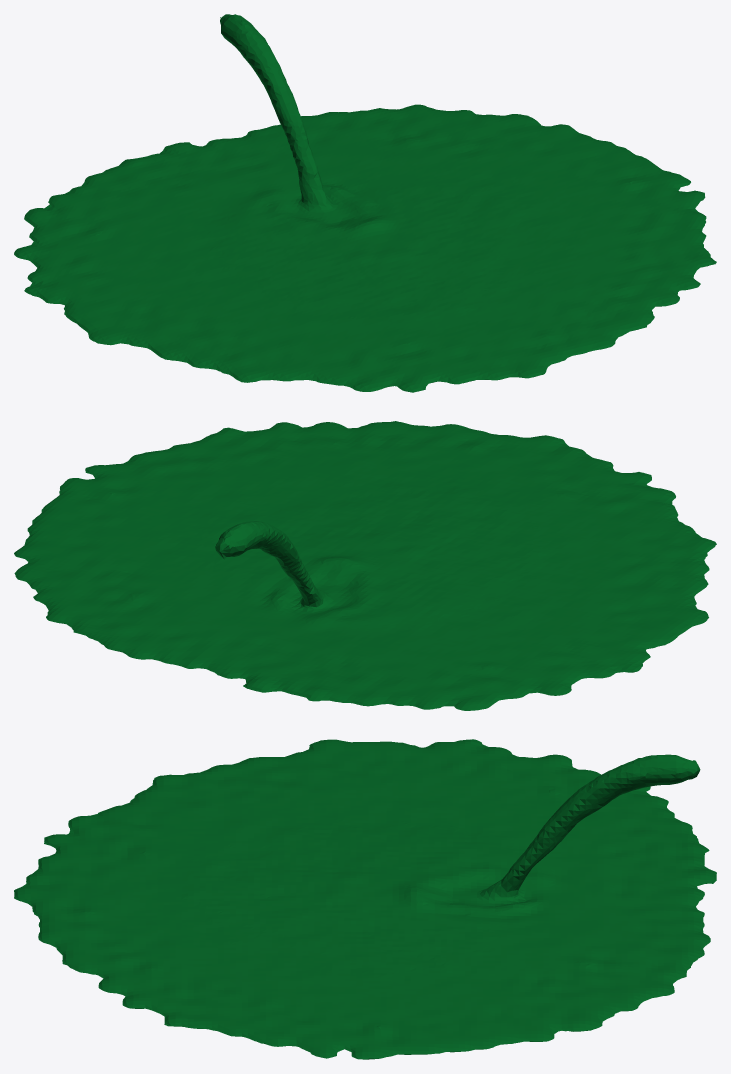
File: fluid_58.fbx
The picture shows the model from 3 angles, top to bottom: view 1: azimuth 30°, elevation 25°; view 2: azimuth 150°, elevation 25°; view 3: azimuth 270°, elevation 25°; orthographic projection. The views are drawn at different scales.
Visible parts, largest first — view 1: Cube; view 2: Cube; view 3: Cube.
Boxes of the visible parts, left/top/right/bottom form: Cube: left=14, top=14, right=716, bottom=392; Cube: left=14, top=421, right=716, bottom=710; Cube: left=14, top=739, right=716, bottom=1059.
Size of the model in its own units: 824 by 176 by 765.
